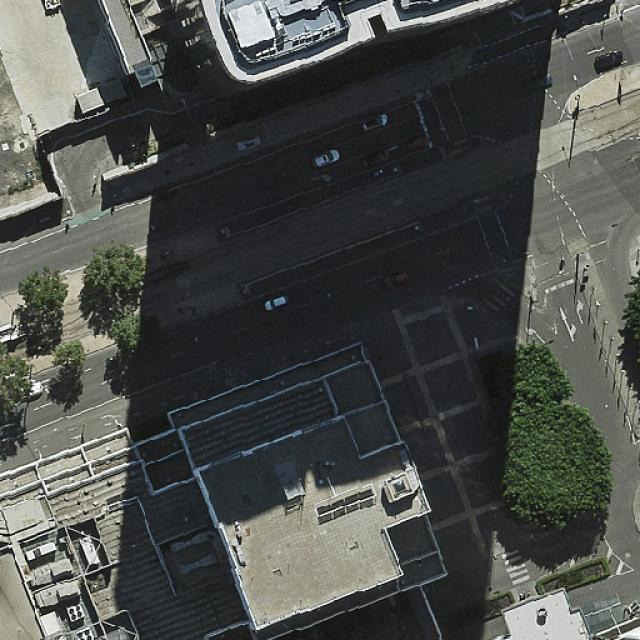Bike-Symbols: (412, 90, 427, 102)
